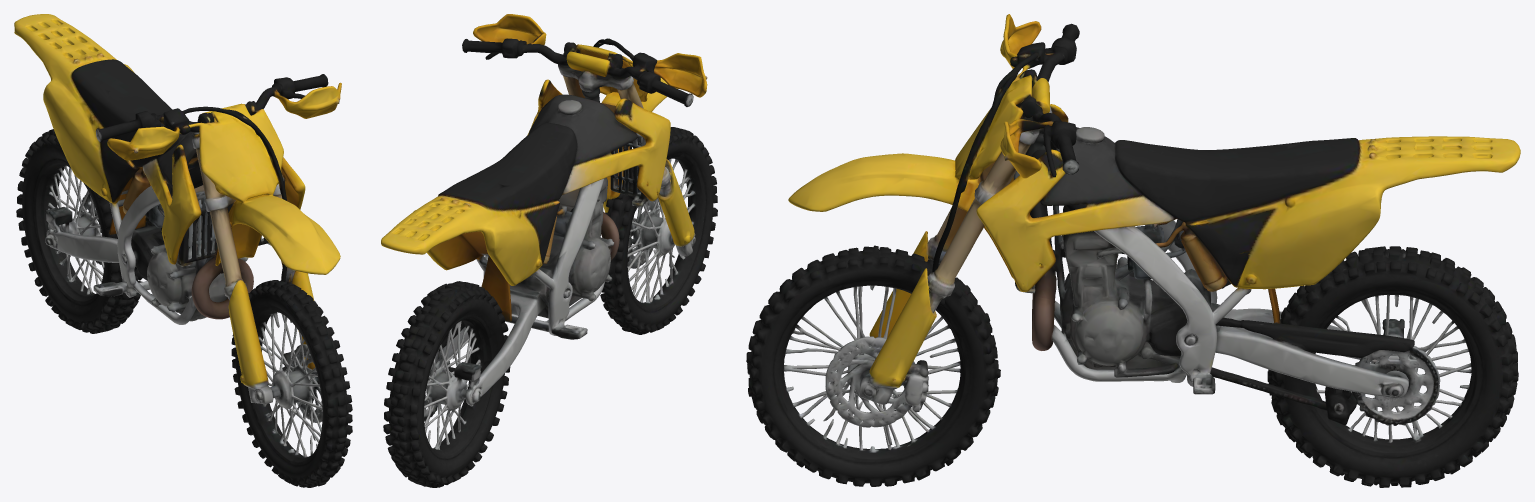
Rendered from 044_dirtbike_yellow.glb.
The picture shows the model from 3 angles, left to right: view 1: azimuth 30°, elevation 25°; view 2: azimuth 150°, elevation 25°; view 3: azimuth 270°, elevation 25°; orthographic projection. The views are drawn at different scales.
Visible parts, largest first — view 1: geometry_0; view 2: geometry_0; view 3: geometry_0.
Boxes of the visible parts, box(x1,y1,x2,y2) form: geometry_0: box(14, 14, 352, 487); geometry_0: box(381, 14, 717, 487); geometry_0: box(746, 14, 1520, 487).
Size of the model in its own units: 0.9471 by 1.29 by 2.2.
Materials: 1 (1 with a texture image).
